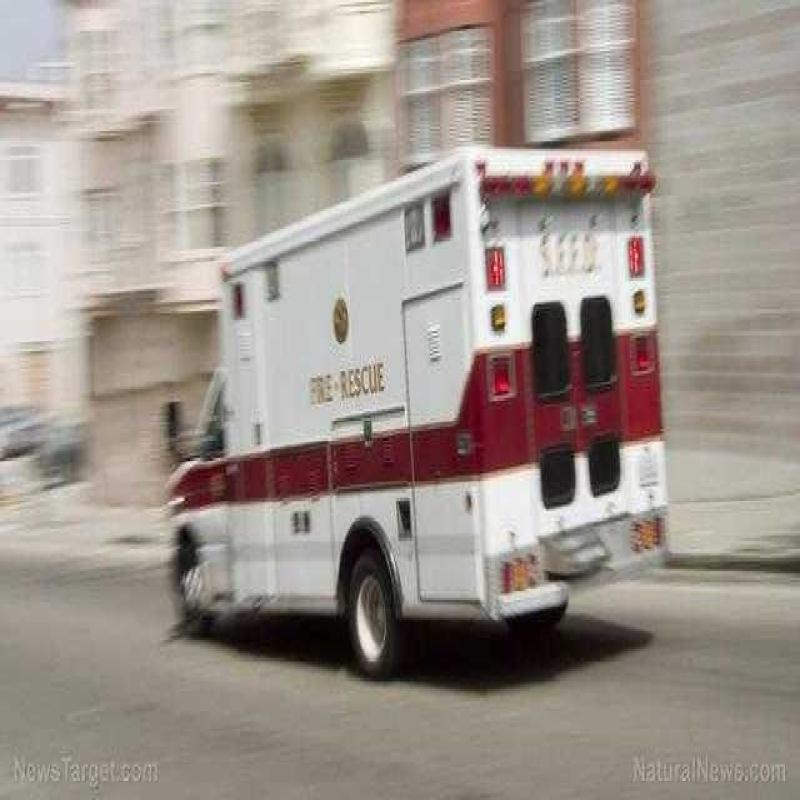AmbulanceSiren: (462, 144, 662, 200)
